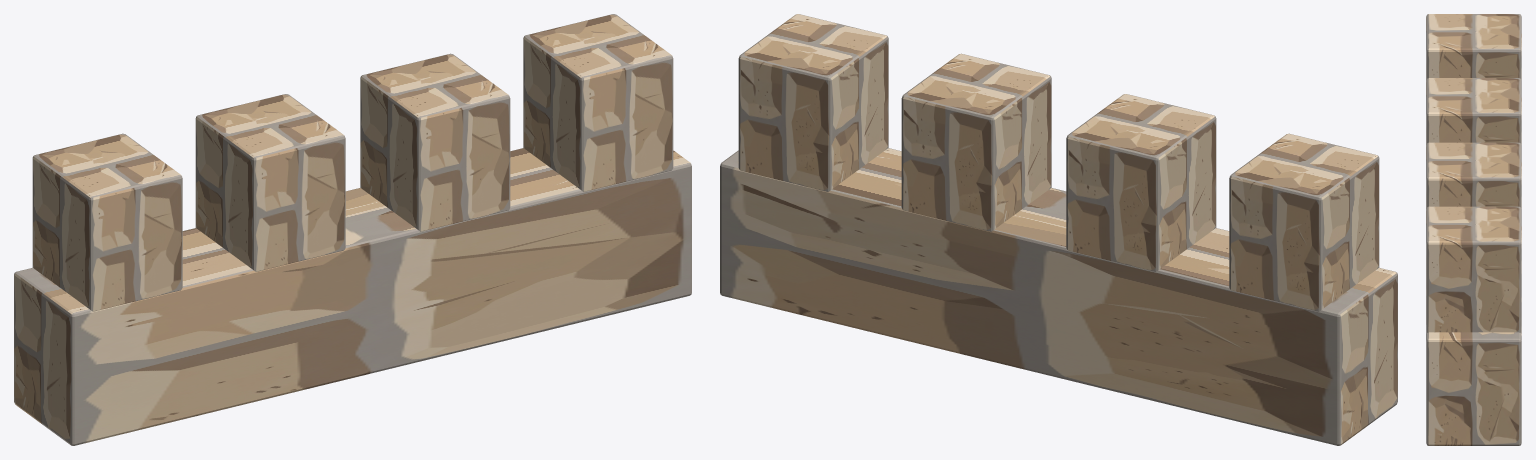
File: parapet_crenellated_4m_LOD2.glb
3 views of the same model, side by side, from view 1: azimuth 30°, elevation 25°; view 2: azimuth 150°, elevation 25°; view 3: azimuth 270°, elevation 25° (orthographic). The views are drawn at different scales.
Parts seen in each view (by area): view 1: LOD2_Base, LOD2_Merlon, LOD2_Merlon.001, LOD2_Merlon.002, LOD2_Merlon.003; view 2: LOD2_Base, LOD2_Merlon, LOD2_Merlon.001, LOD2_Merlon.002, LOD2_Merlon.003; view 3: LOD2_Merlon.003, LOD2_Base, LOD2_Merlon.001, LOD2_Merlon.002, LOD2_Merlon.
Boxes of the visible parts, x1=… form: LOD2_Base: x1=14, y1=148, x2=691, y2=445; LOD2_Merlon: x1=32, y1=133, x2=182, y2=311; LOD2_Merlon.001: x1=195, y1=94, x2=345, y2=271; LOD2_Merlon.002: x1=360, y1=53, x2=510, y2=231; LOD2_Merlon.003: x1=523, y1=14, x2=673, y2=191; LOD2_Base: x1=720, y1=148, x2=1397, y2=445; LOD2_Merlon: x1=1229, y1=133, x2=1379, y2=311; LOD2_Merlon.001: x1=1066, y1=94, x2=1216, y2=271; LOD2_Merlon.002: x1=901, y1=53, x2=1051, y2=231; LOD2_Merlon.003: x1=738, y1=14, x2=888, y2=191; LOD2_Merlon.003: x1=1426, y1=206, x2=1521, y2=333; LOD2_Base: x1=1426, y1=332, x2=1521, y2=445; LOD2_Merlon.001: x1=1426, y1=78, x2=1521, y2=144; LOD2_Merlon.002: x1=1426, y1=142, x2=1521, y2=208; LOD2_Merlon: x1=1426, y1=14, x2=1521, y2=79.
Bounding box in the file's own units: 4 × 1.51 × 0.66.
1 material, 1 textured.
